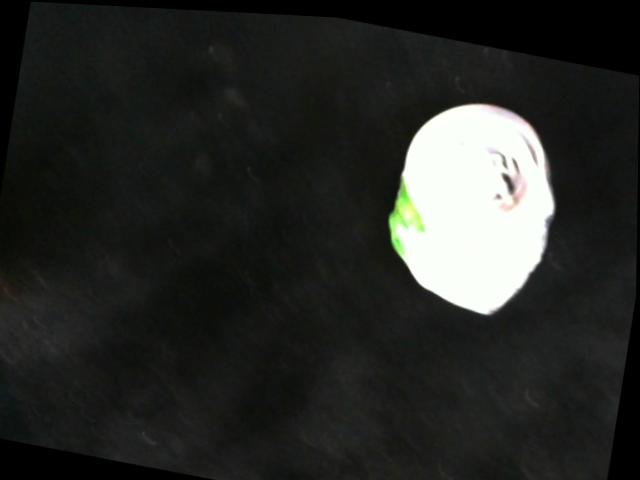can: (372, 85, 565, 311)
